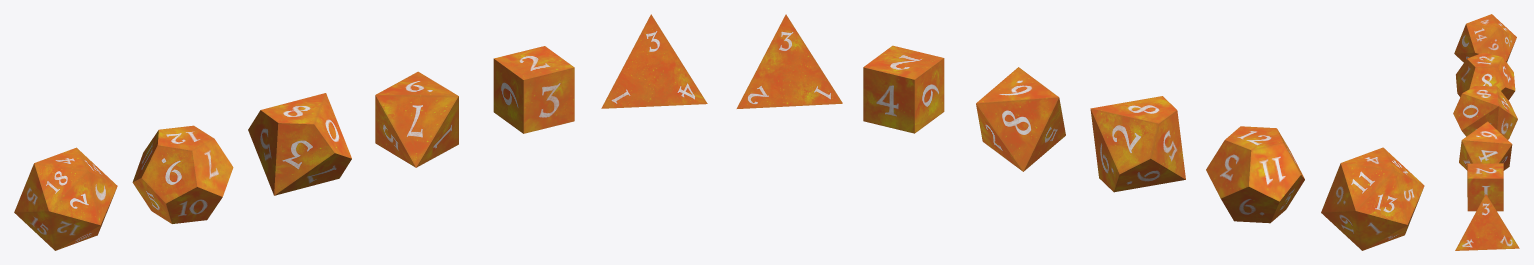
Rendered from dices_orange.glb.
The picture shows the model from 3 angles, left to right: view 1: azimuth 30°, elevation 25°; view 2: azimuth 150°, elevation 25°; view 3: azimuth 270°, elevation 25°; orthographic projection. The views are drawn at different scales.
Parts seen in each view (by area): view 1: d10, d12, d20, d8, d6, d4; view 2: d10, d20, d12, d8, d6, d4; view 3: d10, d20, d4, d12, d8, d6.
Part boxes in pixels (x1,y1,x2,y2): d10: (248,93,351,195); d12: (132,125,233,223); d20: (14,147,117,250); d8: (375,71,458,167); d6: (493,46,574,133); d4: (601,14,707,108); d10: (1090,96,1185,192); d20: (1321,147,1424,250); d12: (1206,126,1304,223); d8: (976,67,1065,171); d6: (863,45,944,133); d4: (736,14,842,108); d10: (1453,86,1517,139); d20: (1454,14,1516,62); d4: (1455,194,1519,250); d12: (1456,52,1515,100); d8: (1459,121,1512,170); d6: (1467,163,1503,211).
Bounding box in the file's own units: 9.02 × 1.09 × 1.3.
Materials: 1 (1 with a texture image).
